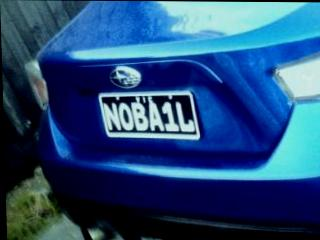License_Plate: (93, 87, 212, 145)
